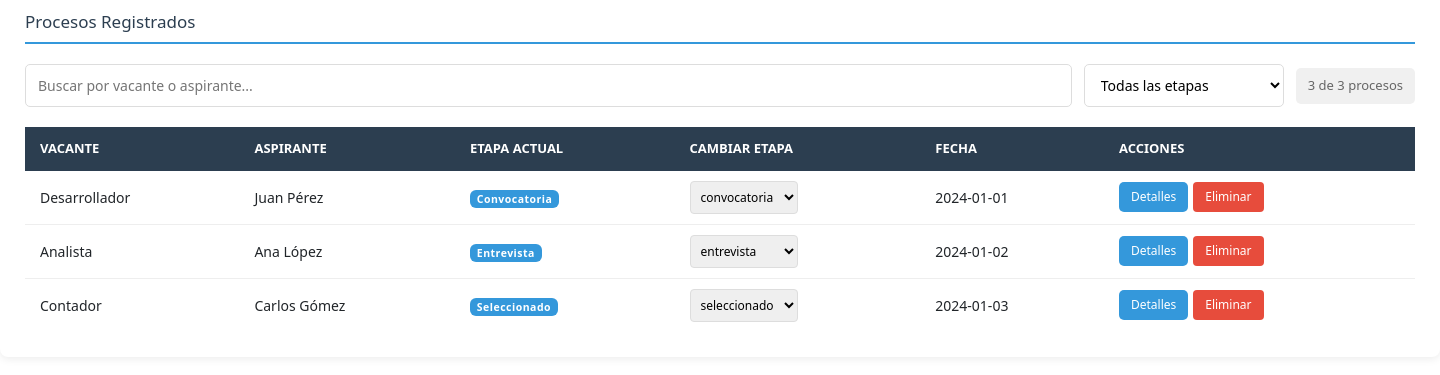
<ProcesosTable /> › filtra por texto de búsqueda
The image size is (1440, 375).
Type "Juan" into the field with placeholder "Buscar por vacante o aspirante..." at [548, 86], box [25,64,1072,107]
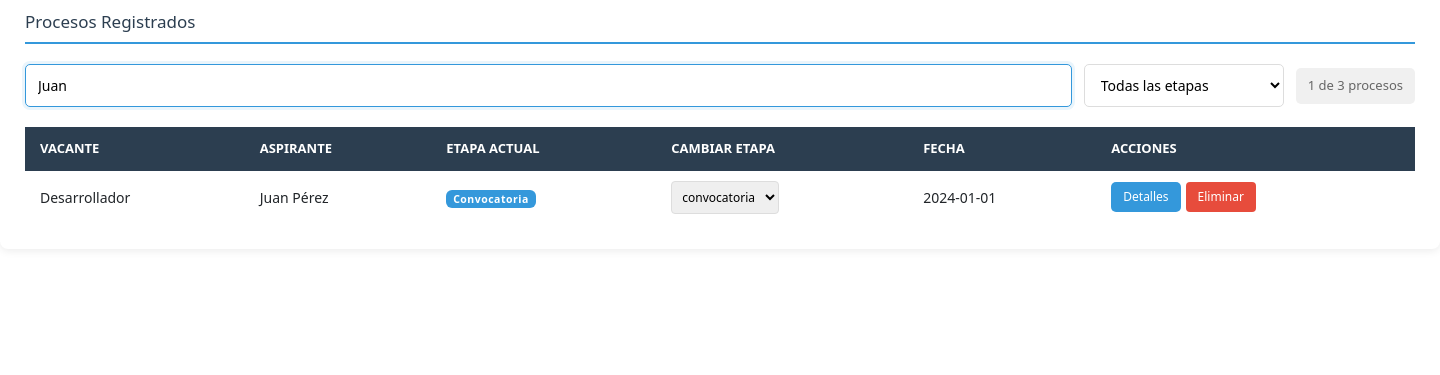
Expected: the text "Juan Pérez" is shown, [245,171,431,224]
Result: the text "Ana López" is gone
